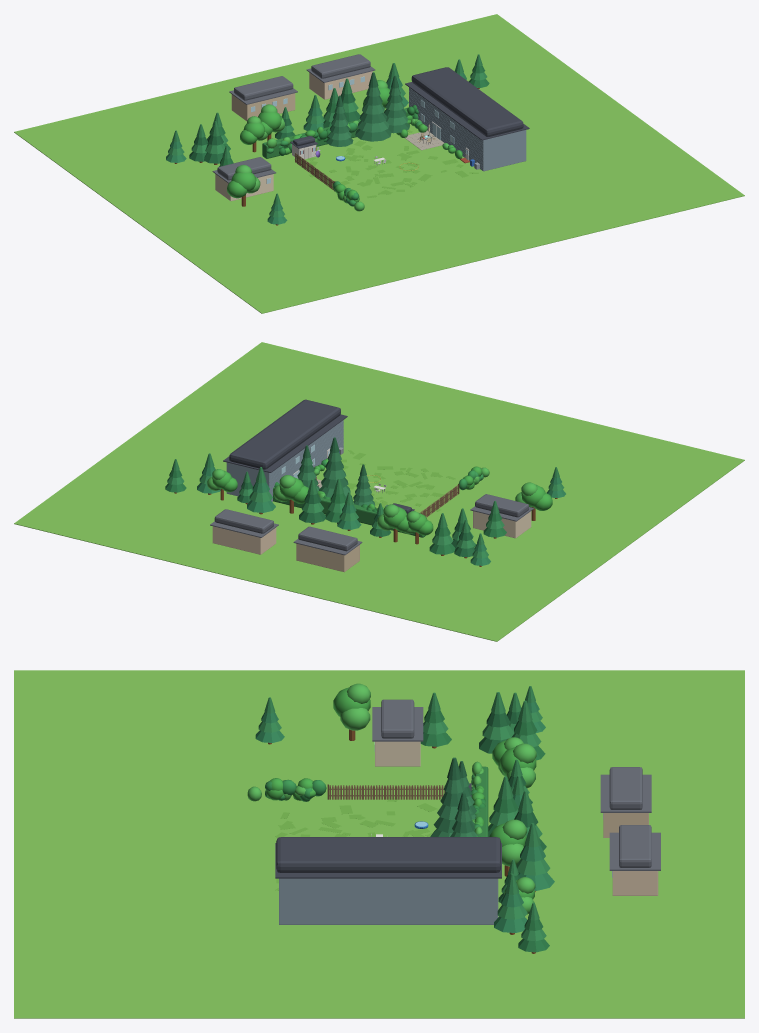
Rendered from backyard.glb.
3 renders of one model, top to bottom at view 1: azimuth 30°, elevation 25°; view 2: azimuth 150°, elevation 25°; view 3: azimuth 270°, elevation 25°, orthographic. The views are drawn at different scales.
Visible parts, largest first — view 1: grass, house, house_3, house_2, pine_1, house_1, hedge, pine_3, tree_17, pine_2, tree_4, tree_5 (+2 smaller); view 2: grass, house, house_3, house_2, house_1, pine_1, tree_10, tree_17, tree_11, hedge, tree_5, tree_9 (+6 smaller); view 3: grass, house, house_3, house_1, house_2, tree_17, pine_1, left_hedge, tree_11, tree_14, hedge, tree_10 (+9 smaller).
Part boxes in pixels (x1=…): grass: x1=14, y1=14, x2=744, y2=313; house: x1=405, y1=67, x2=529, y2=171; house_3: x1=306, y1=54, x2=375, y2=99; house_2: x1=229, y1=76, x2=297, y2=121; pine_1: x1=355, y1=72, x2=391, y2=141; house_1: x1=212, y1=157, x2=276, y2=201; hedge: x1=262, y1=105, x2=418, y2=158; pine_3: x1=384, y1=75, x2=409, y2=133; tree_17: x1=227, y1=164, x2=260, y2=206; pine_2: x1=326, y1=95, x2=353, y2=146; tree_4: x1=240, y1=116, x2=267, y2=152; tree_5: x1=258, y1=104, x2=284, y2=140; grass: x1=14, y1=342, x2=744, y2=641; house: x1=223, y1=399, x2=347, y2=501; house_3: x1=210, y1=509, x2=278, y2=554; house_2: x1=293, y1=526, x2=362, y2=572; house_1: x1=470, y1=494, x2=533, y2=538; pine_1: x1=319, y1=437, x2=352, y2=500; tree_10: x1=273, y1=475, x2=308, y2=513; tree_17: x1=515, y1=482, x2=552, y2=520; tree_11: x1=247, y1=467, x2=275, y2=514; hedge: x1=273, y1=482, x2=425, y2=537; tree_5: x1=377, y1=504, x2=408, y2=542; tree_9: x1=299, y1=479, x2=325, y2=524; grass: x1=14, y1=670, x2=744, y2=1018; house: x1=275, y1=837, x2=501, y2=924; house_3: x1=609, y1=825, x2=660, y2=895; house_1: x1=372, y1=699, x2=423, y2=766; house_2: x1=600, y1=767, x2=651, y2=837; tree_17: x1=333, y1=683, x2=370, y2=740; pine_1: x1=430, y1=757, x2=478, y2=836; left_hedge: x1=247, y1=778, x2=326, y2=801; tree_11: x1=516, y1=823, x2=554, y2=891; tree_14: x1=494, y1=873, x2=527, y2=934; hedge: x1=471, y1=761, x2=488, y2=836; tree_10: x1=489, y1=819, x2=526, y2=876.
Size of the model in its own units: 90 by 12.47 by 80.
